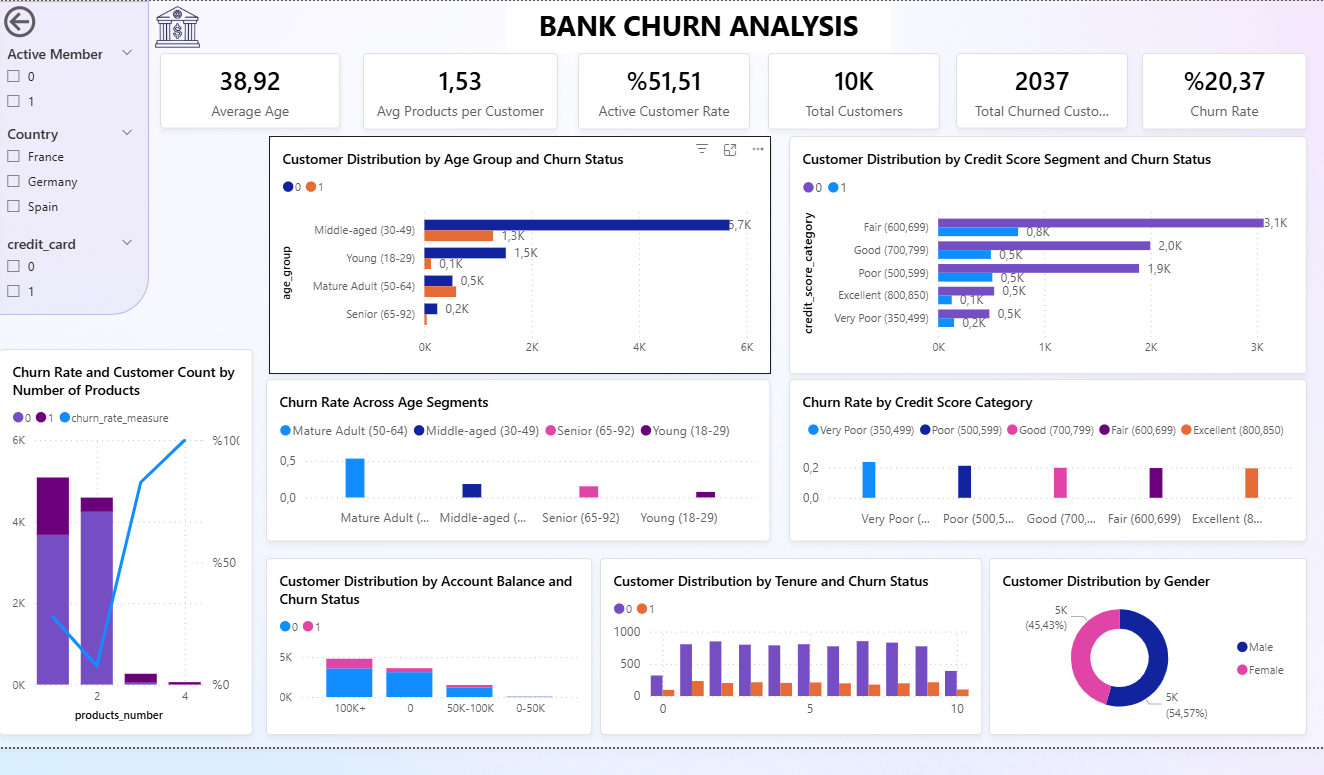

Layout of this report page (visuals, bound fields, positions):
{"tool":"powerbi","page":{"name":"1. sayfa","canvas":[1280,720],"ordinal":0},"visuals":[{"type":"card","fields":{"Values":["bank_churn.churned_customer"]},"box":[923.8,50.2,166,73.4],"z":0},{"type":"card","fields":{"Values":["bank_churn.Total_customers"]},"box":[742.3,50.2,166,74.3],"z":1000},{"type":"card","fields":{"Values":["bank_churn.churn_rate_measure"]},"box":[1103.3,50.2,159.3,74.3],"z":2000},{"type":"columnChart","title":"Customer Distribution by Account Balance and Churn Status","fields":{"Category":["bank_churn.balance_group"],"Series":["bank_churn.churn"],"Y":["bank_churn.Total_customers"]},"box":[257.7,537.7,314.7,170.9],"z":3000},{"type":"clusteredBarChart","title":"Customer Distribution by Age Group and Churn Status","fields":{"Y":["bank_churn.Total_customers"],"Category":["bank_churn.age_group"],"Series":["bank_churn.churn"]},"box":[260.6,130.3,484.6,229.7],"z":4000},{"type":"clusteredBarChart","title":"Customer Distribution by Credit Score Segment and Churn Status","fields":{"Category":["bank_churn.credit_score_category"],"Y":["bank_churn.Total_customers"],"Series":["bank_churn.churn"]},"box":[762.6,130.3,500,229.7],"z":5000},{"type":"lineStackedColumnComboChart","title":"Churn Rate and Customer Count by Number of Products","fields":{"Category":["bank_churn.products_number"],"Y":["bank_churn.Total_customers"],"Series":["bank_churn.churn"],"Y2":["bank_churn.churn_rate_measure"]},"box":[0,335.9,245.2,372.6],"z":6000},{"type":"actionButton","box":[0,0,100,40],"z":7000},{"type":"clusteredColumnChart","title":"Customer Distribution by Tenure and Churn Status","fields":{"Category":["bank_churn.tenure"],"Y":["bank_churn.Total_customers"],"Series":["bank_churn.churn"]},"box":[580.2,537.7,368.7,170.9],"z":8000},{"type":"shape","box":[0,0,144.8,303.1],"z":9000},{"type":"slicer","fields":{"Values":["bank_churn.active_member"]},"box":[0,39.6,144.8,78.2],"z":10000},{"type":"slicer","fields":{"Values":["bank_churn.country"]},"box":[0,116.8,144.8,98.5],"z":11000},{"type":"slicer","fields":{"Values":["bank_churn.credit_card"]},"box":[0,223,144.8,73.4],"z":12000},{"type":"donutChart","title":"Customer Distribution by Gender","fields":{"Category":["bank_churn.gender"],"Y":["bank_churn.Total_customers"]},"box":[955.7,537.7,307,170.9],"z":13000},{"type":"card","fields":{"Values":["bank_churn.Active Customer Rate"]},"box":[558.9,50.2,166,74.3],"z":14000},{"type":"card","fields":{"Values":["bank_churn.Avg Products per Customer"]},"box":[351.4,50.2,188.2,74.3],"z":15000},{"type":"card","fields":{"Values":["Avg(bank_churn.age)"]},"box":[155,50.2,174,73],"z":16000},{"type":"clusteredColumnChart","title":"Churn Rate Across Age Segments","fields":{"Category":["bank_churn.age_group"],"Y":["bank_churn.churn_rate_measure"],"Series":["bank_churn.age_group"]},"box":[257.7,364.9,487.5,157.3],"z":17000},{"type":"clusteredColumnChart","title":"Churn Rate by Credit Score Category","fields":{"Category":["bank_churn.credit_score_category"],"Y":["bank_churn.churn_rate_measure"],"Series":["bank_churn.credit_score_category"]},"box":[762.6,364.9,500,157.3],"z":18000},{"type":"image","box":[144.8,0,55,50.2],"z":19000},{"type":"textbox","box":[489.4,0,371.6,50.2],"z":20000}]}

Visuals, with their boxes on the page's 1280x720 design canvas (x1, y1, x2, y2). These are canvas units, not pixel positions in the 1324x775 screenshot, which may show the page scaled, cropped or inside an application window:
card - bank_churn.churned_customer: {"left": 924, "top": 50, "right": 1090, "bottom": 124}
card - bank_churn.Total_customers: {"left": 742, "top": 50, "right": 908, "bottom": 124}
card - bank_churn.churn_rate_measure: {"left": 1103, "top": 50, "right": 1263, "bottom": 124}
"Customer Distribution by Account Balance and Churn Status" columnChart: {"left": 258, "top": 538, "right": 572, "bottom": 709}
"Customer Distribution by Age Group and Churn Status" clusteredBarChart: {"left": 261, "top": 130, "right": 745, "bottom": 360}
"Customer Distribution by Credit Score Segment and Churn Status" clusteredBarChart: {"left": 763, "top": 130, "right": 1263, "bottom": 360}
"Churn Rate and Customer Count by Number of Products" lineStackedColumnComboChart: {"left": 0, "top": 336, "right": 245, "bottom": 708}
actionButton: {"left": 0, "top": 0, "right": 100, "bottom": 40}
"Customer Distribution by Tenure and Churn Status" clusteredColumnChart: {"left": 580, "top": 538, "right": 949, "bottom": 709}
shape: {"left": 0, "top": 0, "right": 145, "bottom": 303}
slicer - bank_churn.active_member: {"left": 0, "top": 40, "right": 145, "bottom": 118}
slicer - bank_churn.country: {"left": 0, "top": 117, "right": 145, "bottom": 215}
slicer - bank_churn.credit_card: {"left": 0, "top": 223, "right": 145, "bottom": 296}
"Customer Distribution by Gender" donutChart: {"left": 956, "top": 538, "right": 1263, "bottom": 709}
card - bank_churn.Active Customer Rate: {"left": 559, "top": 50, "right": 725, "bottom": 124}
card - bank_churn.Avg Products per Customer: {"left": 351, "top": 50, "right": 540, "bottom": 124}
card - Avg(bank_churn.age): {"left": 155, "top": 50, "right": 329, "bottom": 123}
"Churn Rate Across Age Segments" clusteredColumnChart: {"left": 258, "top": 365, "right": 745, "bottom": 522}
"Churn Rate by Credit Score Category" clusteredColumnChart: {"left": 763, "top": 365, "right": 1263, "bottom": 522}
image: {"left": 145, "top": 0, "right": 200, "bottom": 50}
textbox: {"left": 489, "top": 0, "right": 861, "bottom": 50}
